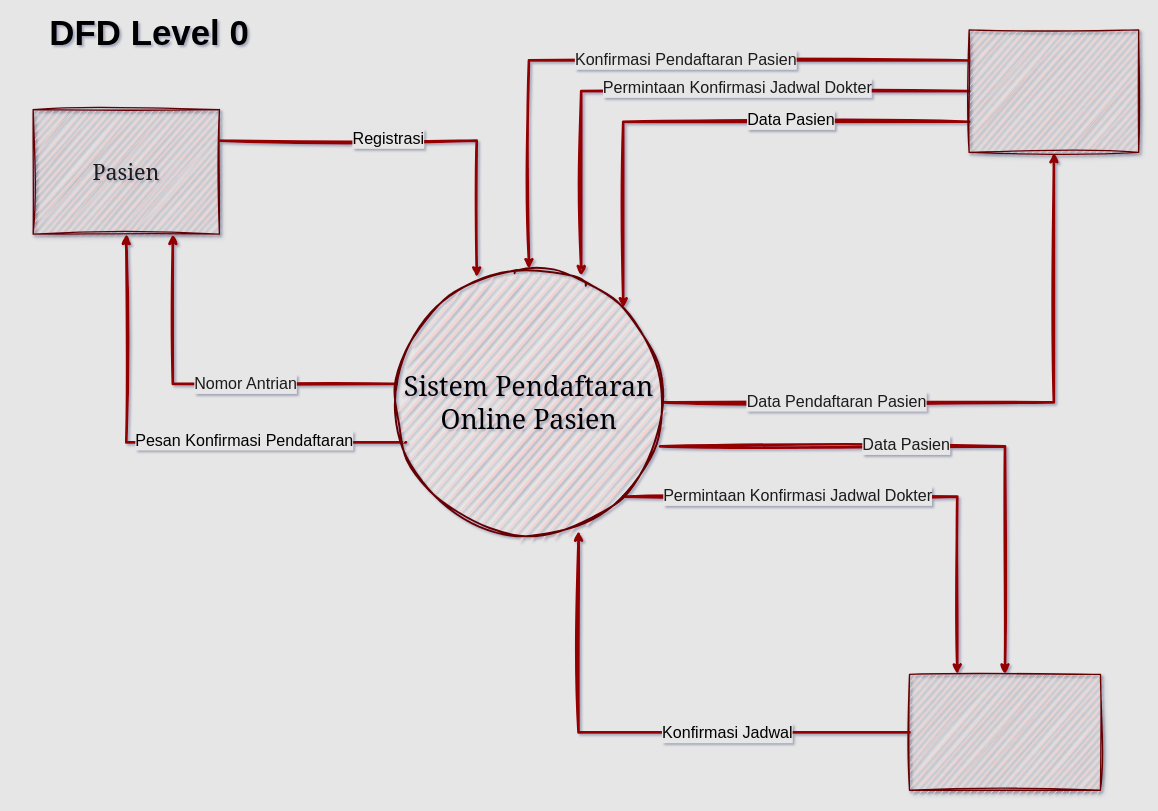
This 1158x811 diagram has some shape labels left out. Each missing label, with the centre of its shape:
"Admin" belongs at pixel 1054 91.
"Dokter" belongs at pixel 1005 733.
